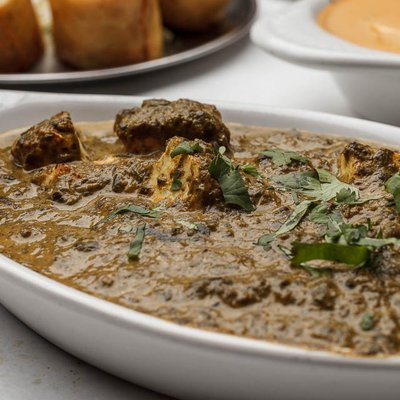curry: (1, 1, 399, 385)
sandwich: (1, 99, 399, 358)
